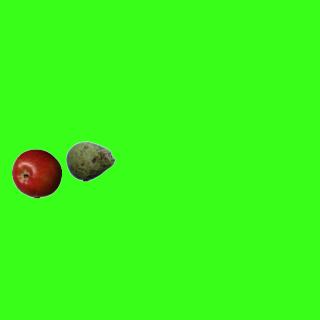Apple Braeburn: (11, 148, 61, 198)
Pear Stone: (65, 136, 115, 186)
